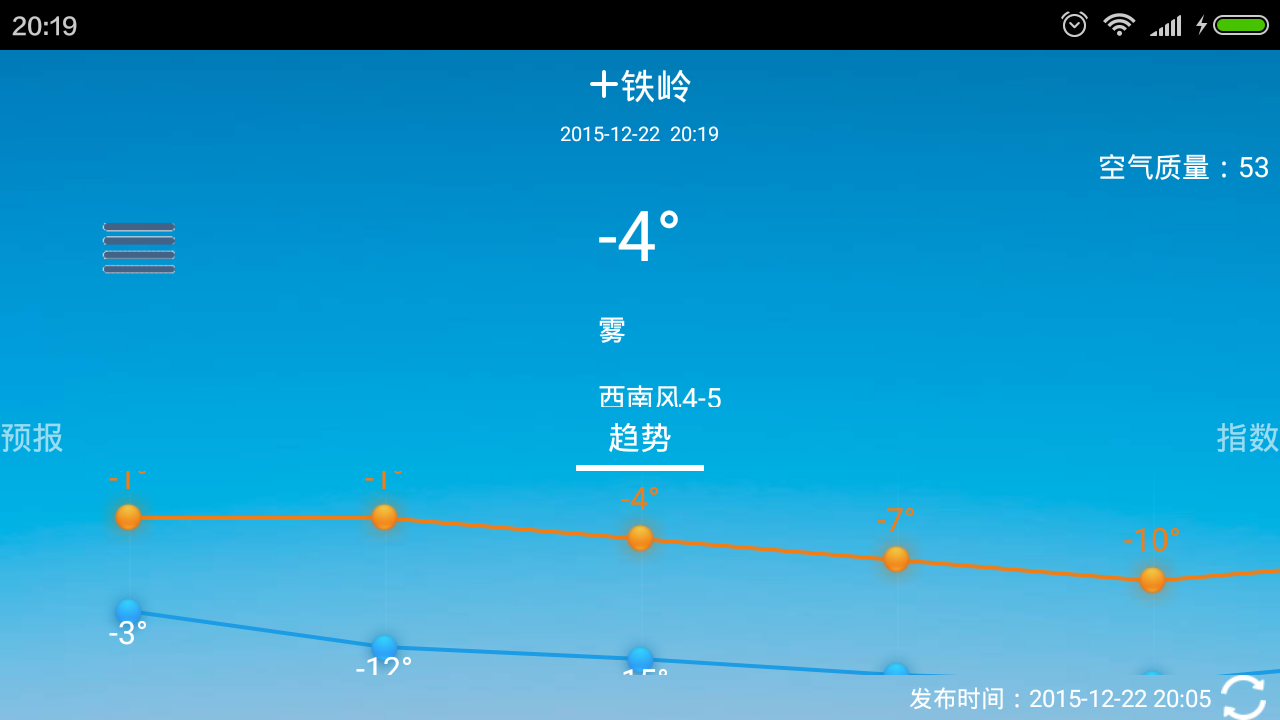imgbutton: (80, 203, 183, 283), (1208, 667, 1275, 720)
textview: (552, 173, 741, 419), (532, 69, 733, 152)
